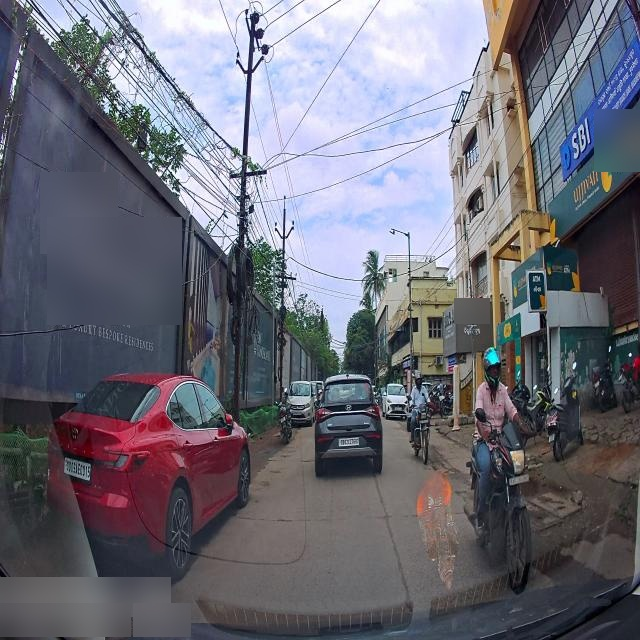pothole: (535, 517, 596, 555), (533, 494, 571, 516), (430, 459, 460, 482), (271, 469, 287, 479)
